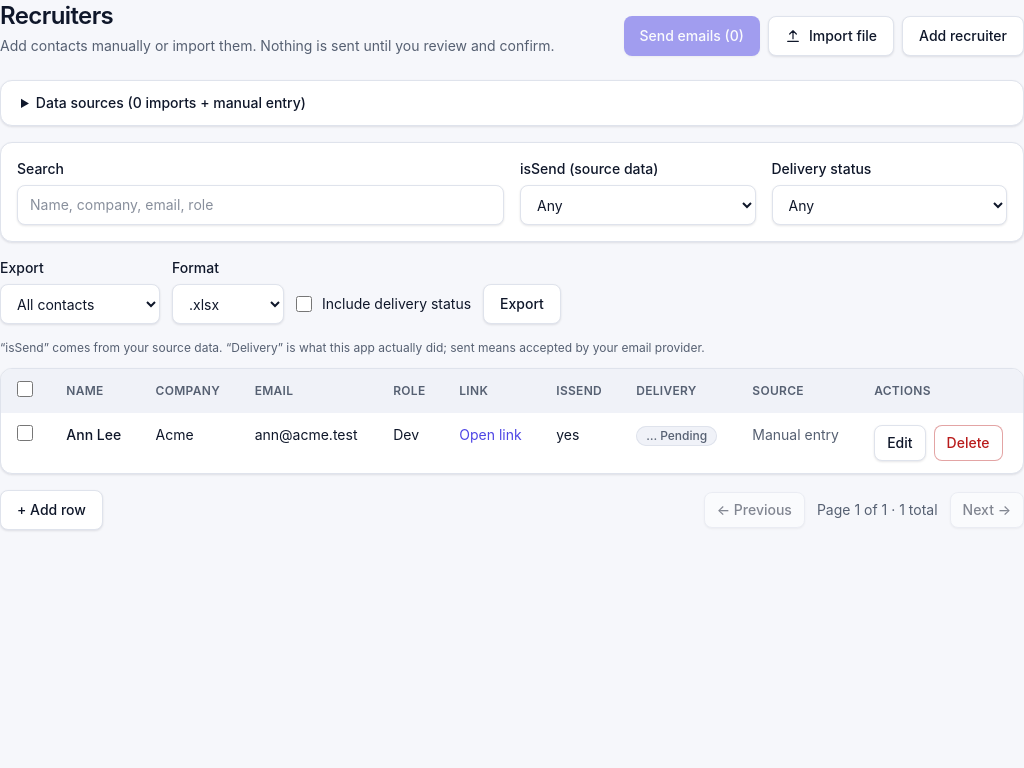
in-app confirmation dialogs › asks for delete confirmation in a modal dialog (not window.confirm); Cancel keeps the data
Click the button with aria-label "delete ann lee": (968, 443) [934,425,1002,461]
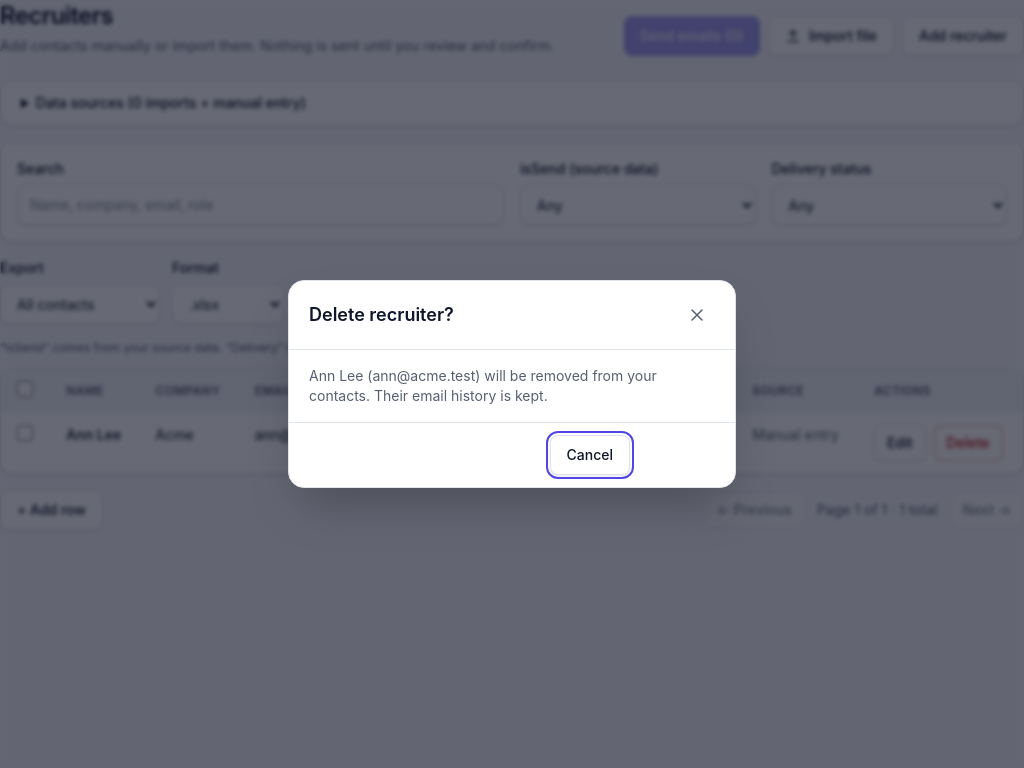
expect the dialog "Delete recruiter?" shows "ann@acme.test": met, box [309,367,657,404]
Click the button "Cancel": (590, 455) [550,435,630,475]
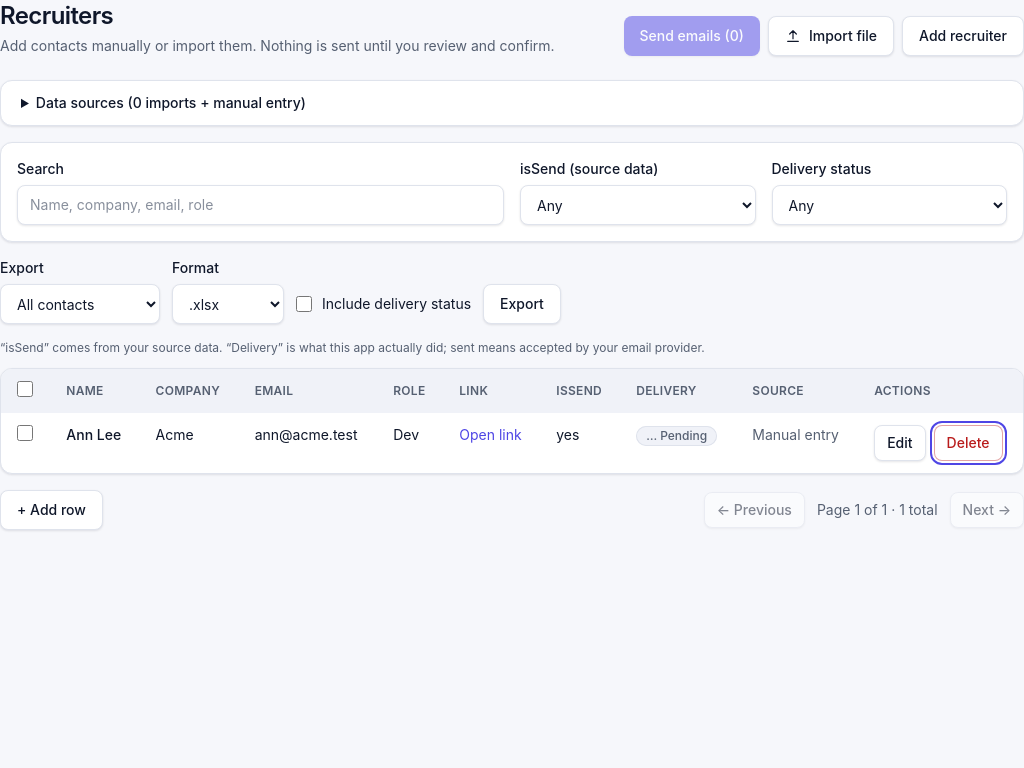
expect the dialog is gone: met
